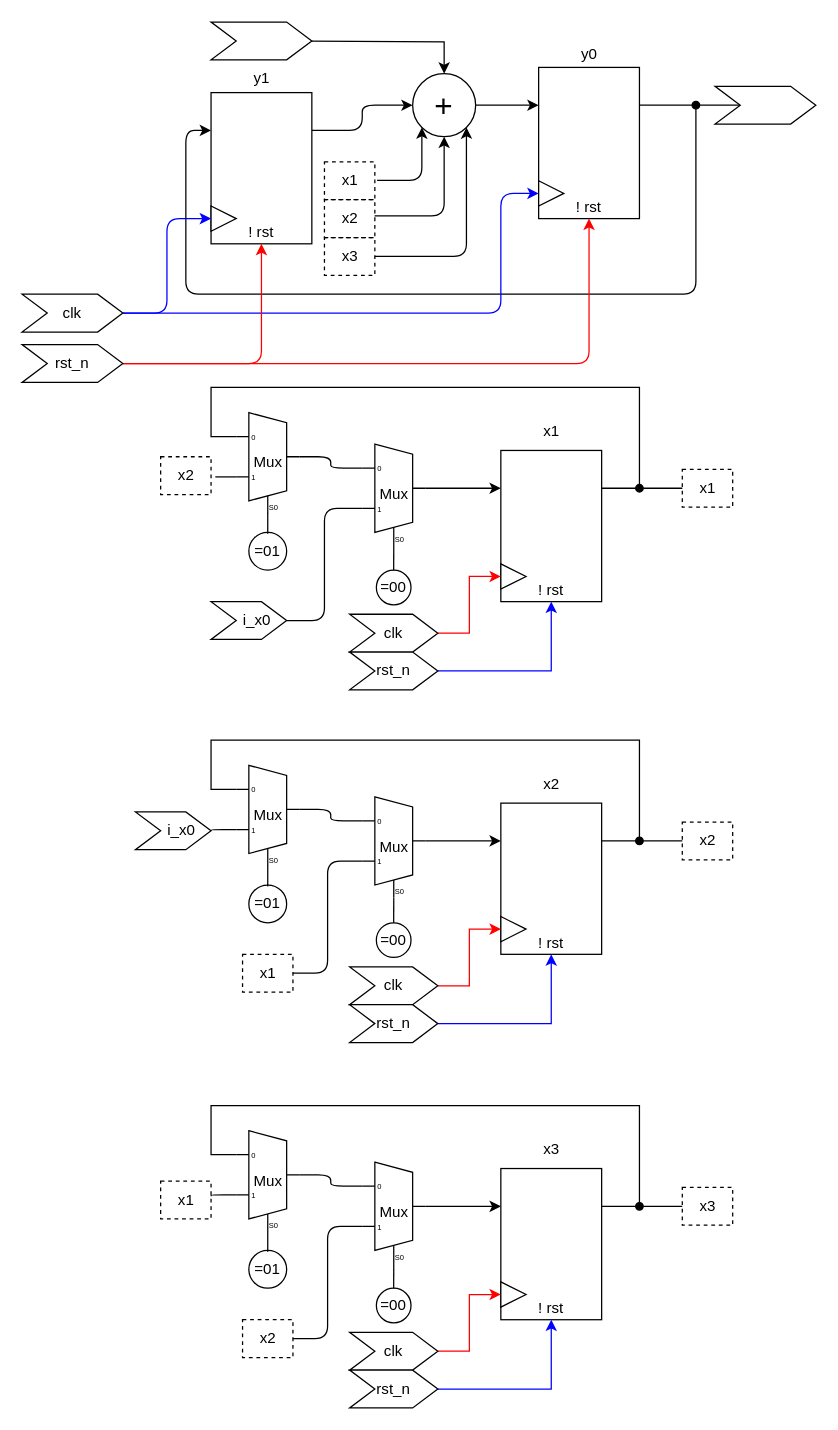
Image size: 838x1430. Some labels were removed from this diagram. Each missing label, with the centre of its shape:
"o_x0" goes at [261,40].
"o_y0" goes at [765,104].
